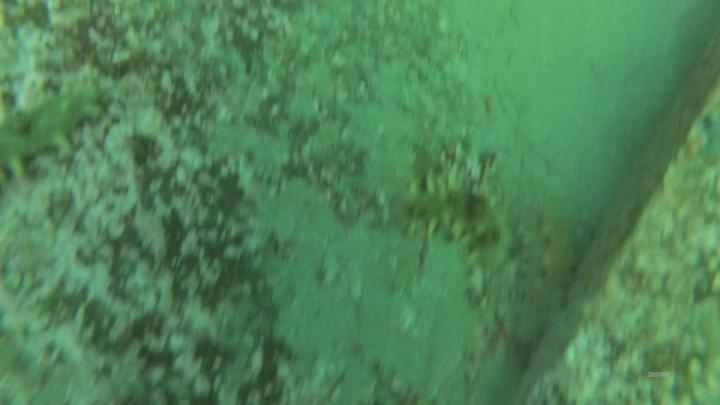holothurian: (495, 212, 577, 339), (7, 78, 105, 184), (407, 187, 513, 275)
